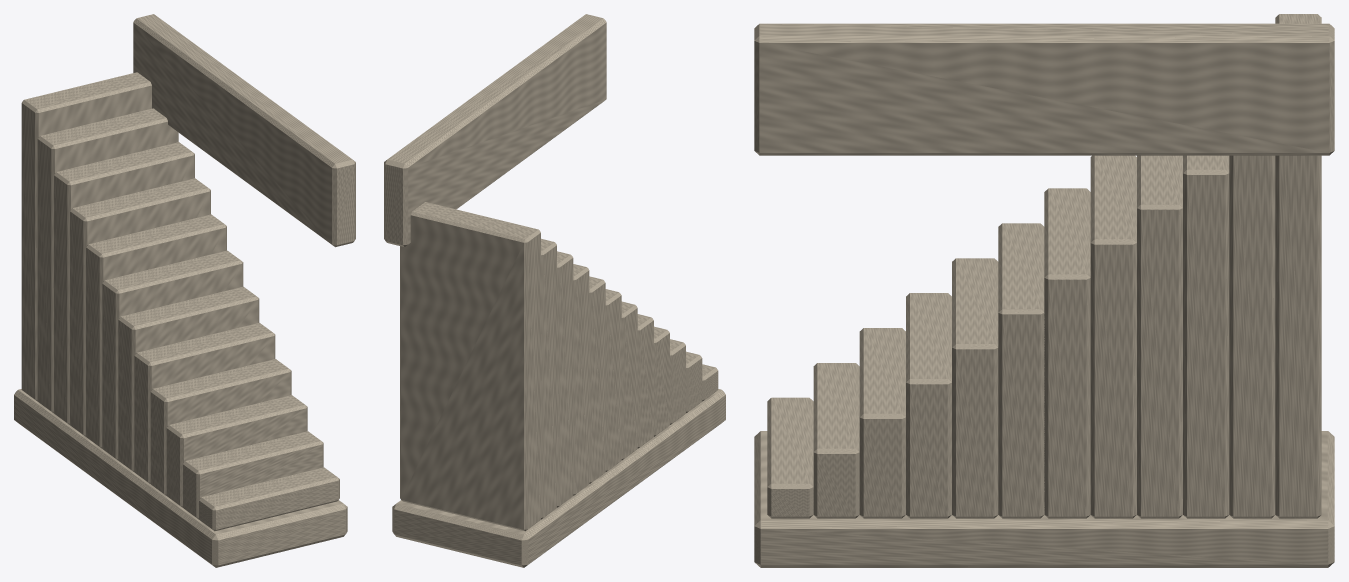
File: fantasy-mmo-city-and-townsfolk-wall-stair-9bbb43fd__32716.glb
3 renders of one model, left to right at view 1: azimuth 30°, elevation 25°; view 2: azimuth 150°, elevation 25°; view 3: azimuth 270°, elevation 25°, orthographic. The views are drawn at different scales.
Parts seen in each view (by area): view 1: wall-stair; view 2: wall-stair; view 3: wall-stair.
Boxes of the visible parts, bbox=[...] form: wall-stair: bbox=[14, 14, 355, 567]; wall-stair: bbox=[384, 14, 725, 567]; wall-stair: bbox=[754, 14, 1334, 567].
Bounding box in the file's own units: 1.8 × 4.5 × 4.4.
1 material, 1 textured.
